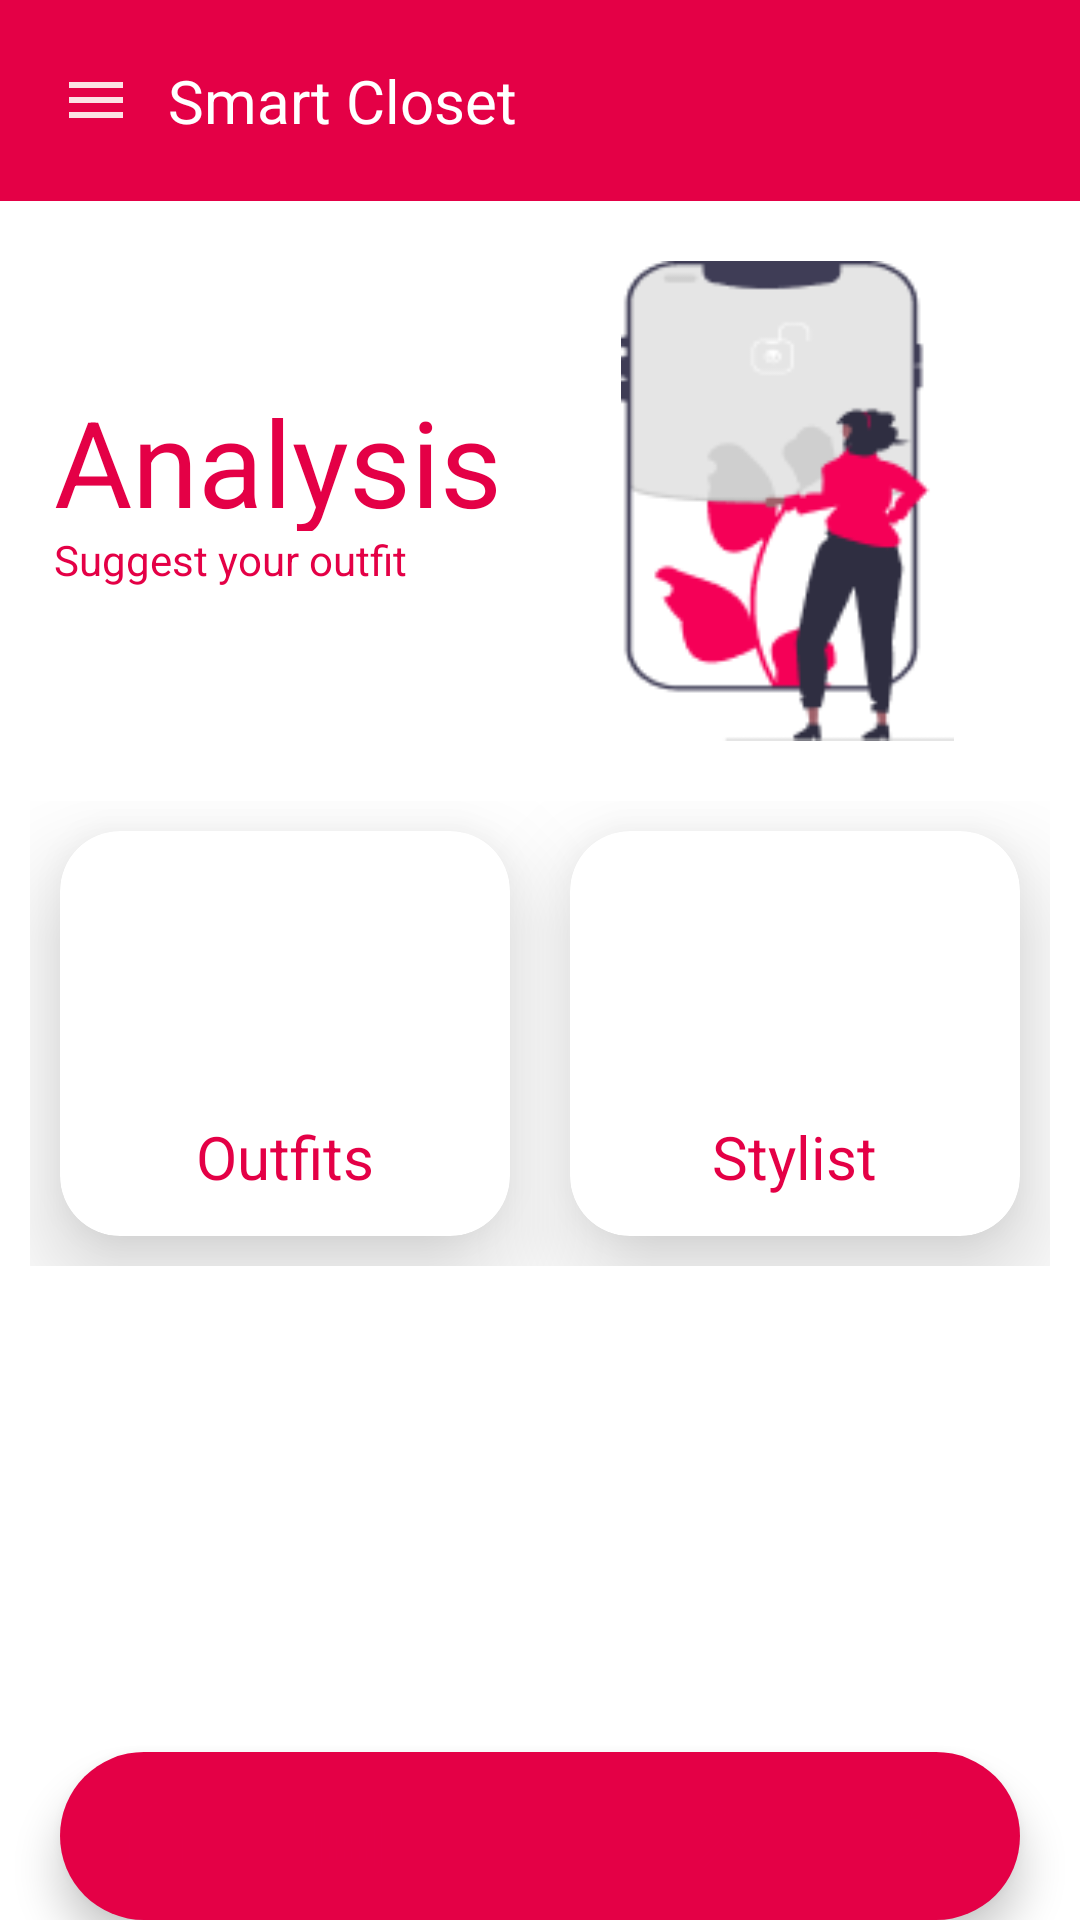

Icon click points for this 1080 x 1920 phone screenshot, format (x=x, y=y):
menu: (x=96, y=100)
